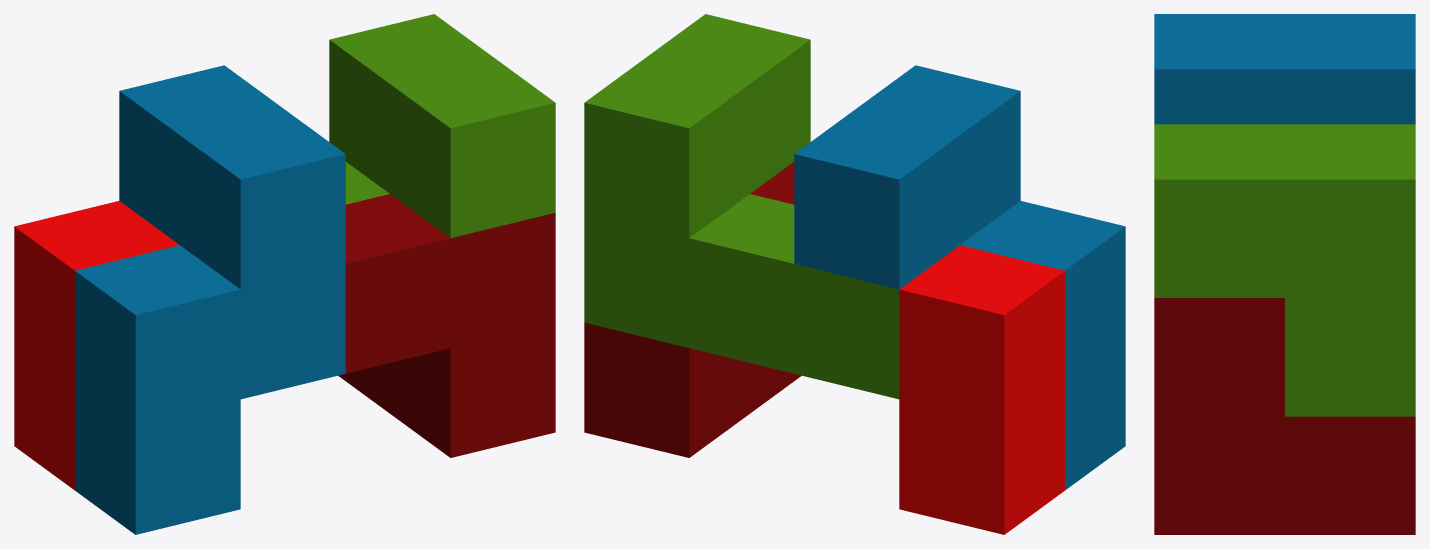
3 renders of one model, left to right at view 1: azimuth 30°, elevation 25°; view 2: azimuth 150°, elevation 25°; view 3: azimuth 270°, elevation 25°, orthographic. The views are drawn at different scales.
Parts seen in each view (by area): view 1: mergedBlocks(Clone); view 2: mergedBlocks(Clone); view 3: mergedBlocks(Clone).
Boxes of the visible parts, x1=… form: mergedBlocks(Clone): x1=14, y1=14, x2=555, y2=534; mergedBlocks(Clone): x1=584, y1=14, x2=1125, y2=534; mergedBlocks(Clone): x1=1154, y1=14, x2=1415, y2=534.
Size of the model in its own units: 4 by 3 by 2.
4 materials, 4 textured.
